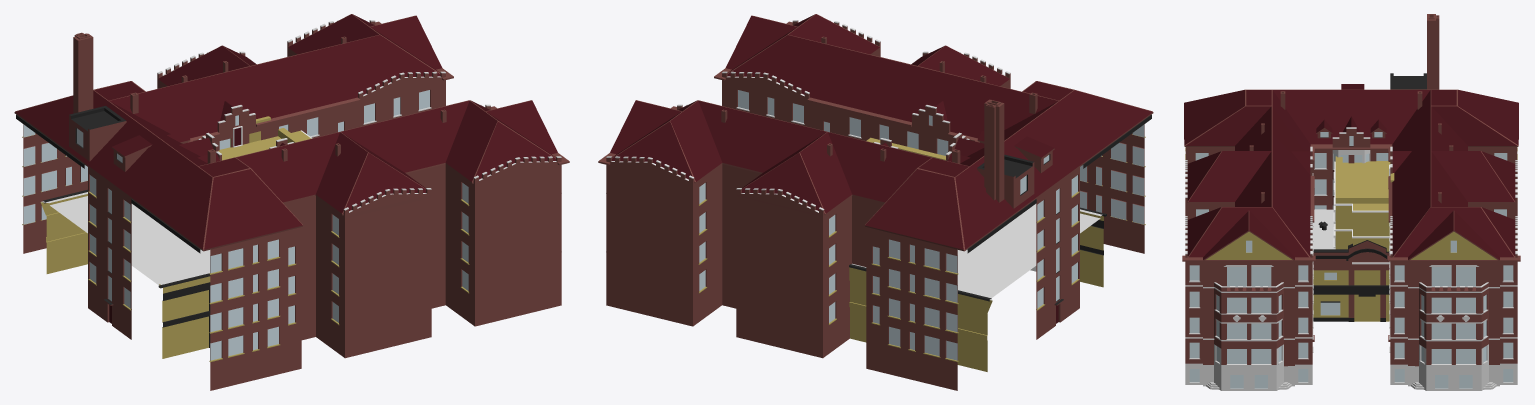
Rendered from Houses.fbx.
3 renders of one model, left to right at view 1: azimuth 30°, elevation 25°; view 2: azimuth 150°, elevation 25°; view 3: azimuth 270°, elevation 25°, orthographic. The views are drawn at different scales.
Parts seen in each view (by area): view 1: house_09_object, house_05_object, Home_1; view 2: house_09_object, house_05_object; view 3: house_09_object, Home_1, house_05_object.
Part boxes in pixels (x1=…): house_09_object: x1=14, y1=14, x2=569, y2=390; house_05_object: x1=40, y1=189, x2=210, y2=358; Home_1: x1=218, y1=116, x2=312, y2=160; house_09_object: x1=598, y1=14, x2=1153, y2=390; house_05_object: x1=849, y1=204, x2=1106, y2=371; house_09_object: x1=1182, y1=14, x2=1520, y2=390; Home_1: x1=1333, y1=156, x2=1394, y2=321; house_05_object: x1=1313, y1=209, x2=1389, y2=321.
Size of the model in its own units: 4167 by 2694 by 3665.
